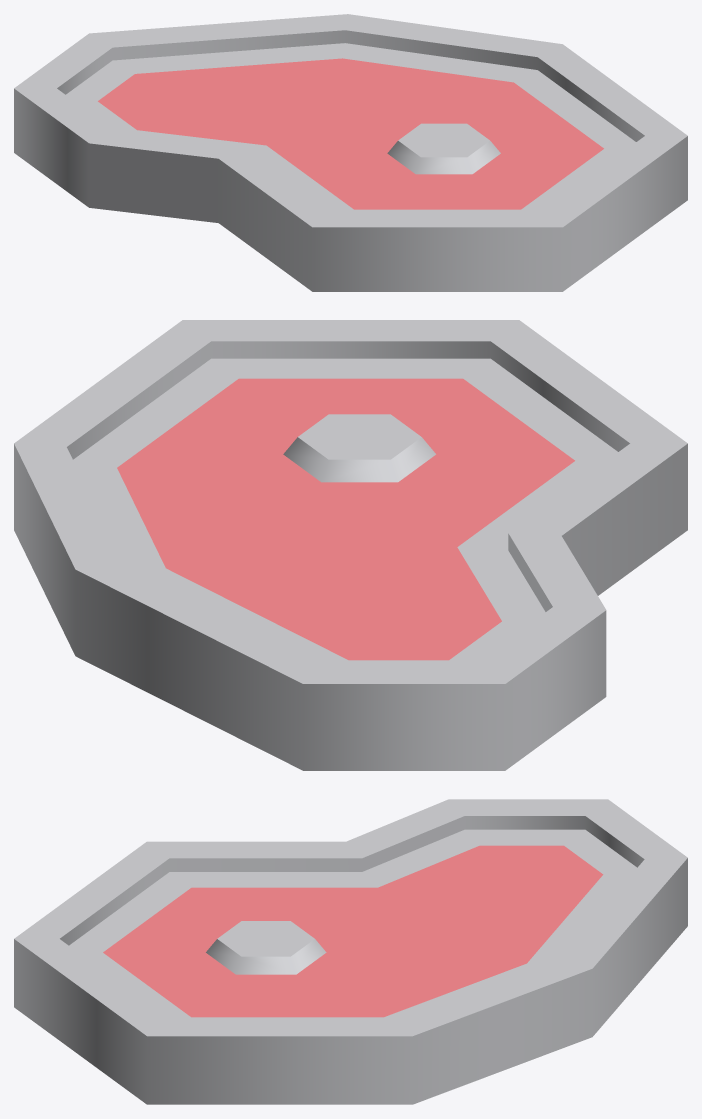
The model's file is meatRaw.GLB.
The picture shows the model from 3 angles, top to bottom: view 1: azimuth 30°, elevation 25°; view 2: azimuth 150°, elevation 25°; view 3: azimuth 270°, elevation 25°; orthographic projection. The views are drawn at different scales.
Visible parts, largest first — view 1: meatRaw; view 2: meatRaw; view 3: meatRaw.
Boxes of the visible parts, x1=… form: meatRaw: x1=14, y1=14, x2=687, y2=291; meatRaw: x1=14, y1=320, x2=687, y2=770; meatRaw: x1=14, y1=799, x2=687, y2=1104.
Size of the model in its own units: 0.4785 by 0.0645 by 0.5754.
